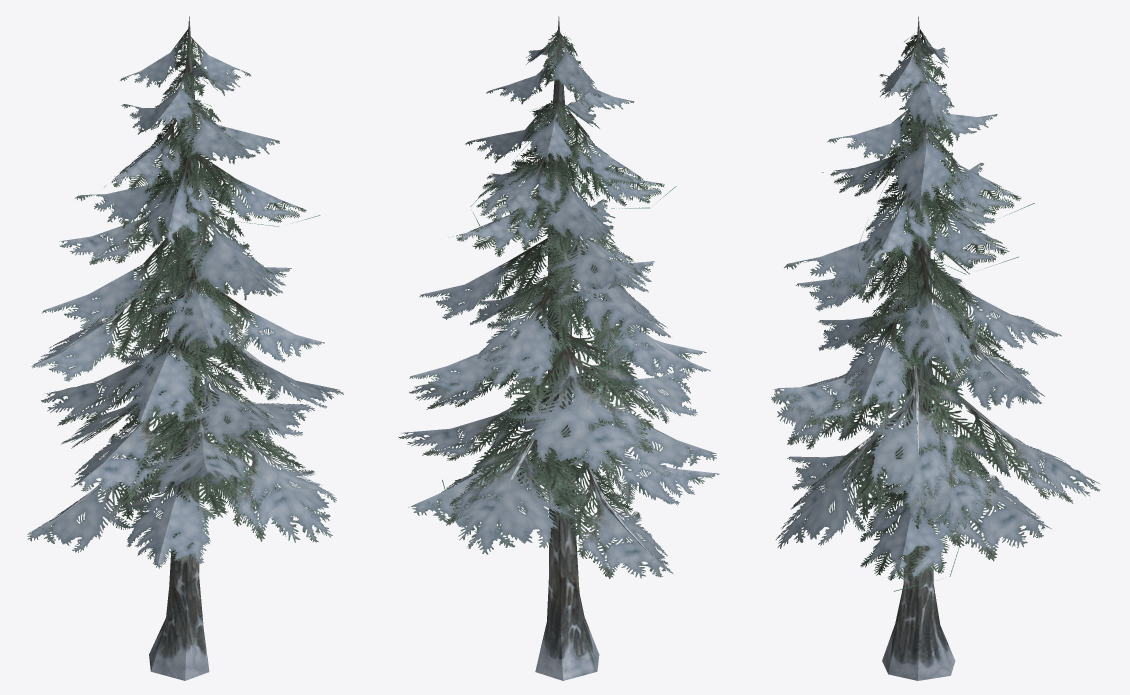
Rendered from 2005_Item_shu_4.FBX.
The picture shows the model from 3 angles, left to right: view 1: azimuth 30°, elevation 25°; view 2: azimuth 150°, elevation 25°; view 3: azimuth 270°, elevation 25°; orthographic projection.
Visible parts, largest first — view 1: 2005_Item_shu_4; view 2: 2005_Item_shu_4; view 3: 2005_Item_shu_4.
Boxes of the visible parts, x1,y1,x2,y2 form: 2005_Item_shu_4: (27,16,343,680); 2005_Item_shu_4: (398,16,719,680); 2005_Item_shu_4: (771,16,1099,680).
Size of the model in its own units: 265 by 505 by 248.
